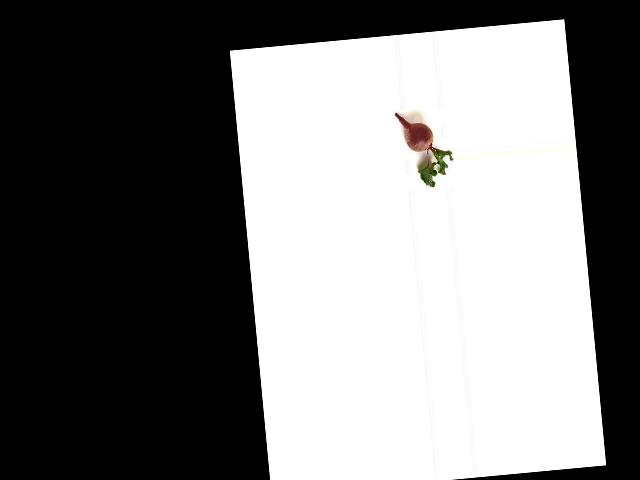beet: (394, 108, 455, 190)
